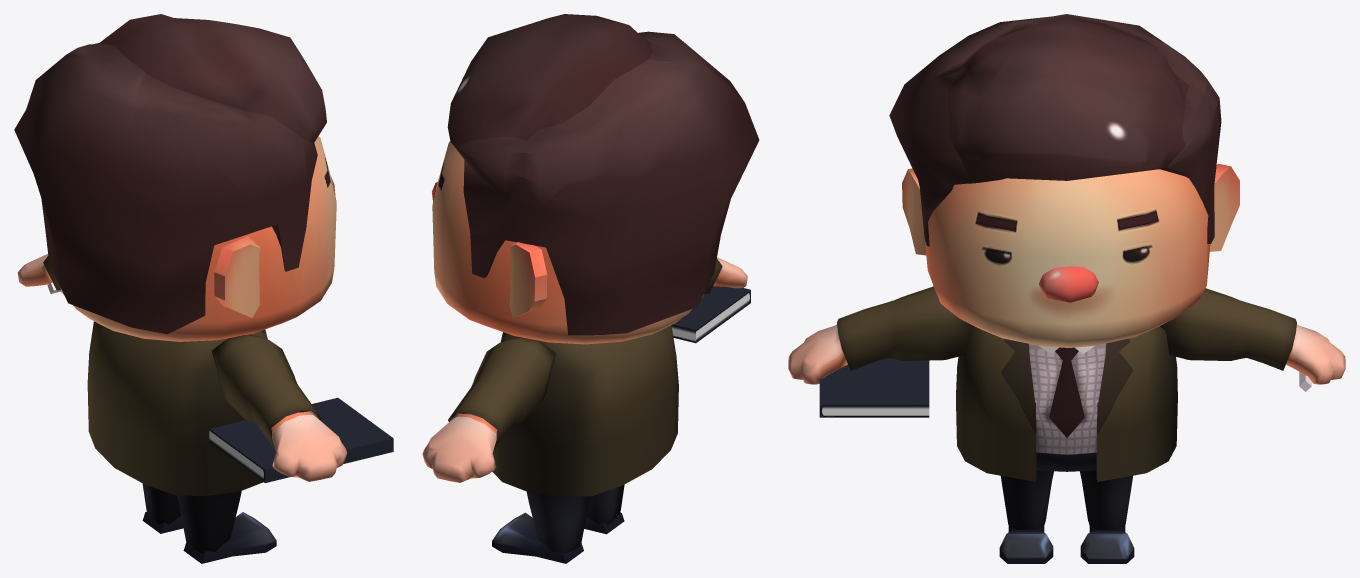
File: Char_Sci_Math_05.fbx
3 renders of one model, left to right at view 1: azimuth 30°, elevation 25°; view 2: azimuth 150°, elevation 25°; view 3: azimuth 270°, elevation 25°, orthographic.
Parts seen in each view (by area): view 1: Hair_MOM, Jacket_MOM, Head_MOM, R_Arm_MOM, Book_MOM, R_Leg_MOM, R_Ear_MOM, L_Leg_MOM, L_Arm_MOM; view 2: Hair_MOM, Jacket_MOM, Head_MOM, L_Arm_MOM, L_Leg_MOM, Book_MOM, L_Ear_MOM, R_Leg_MOM, R_Arm_MOM; view 3: Hair_MOM, Head_MOM, Jacket_MOM, R_Arm_MOM, L_Arm_MOM, Body_MOM, Book_MOM, R_Leg_MOM, L_Leg_MOM, Tie_MOM, L_Ear_MOM, Nose_MOM (+1 smaller).
Boxes of the visible parts, bbox=[...] form: Hair_MOM: bbox=[14, 14, 326, 334]; Jacket_MOM: bbox=[87, 321, 267, 495]; Head_MOM: bbox=[60, 136, 336, 341]; R_Arm_MOM: bbox=[211, 334, 346, 481]; Book_MOM: bbox=[209, 397, 393, 482]; R_Leg_MOM: bbox=[177, 491, 276, 563]; R_Ear_MOM: bbox=[214, 236, 260, 317]; L_Leg_MOM: bbox=[142, 483, 183, 533]; L_Arm_MOM: bbox=[17, 254, 60, 290]; Hair_MOM: bbox=[447, 14, 759, 335]; Jacket_MOM: bbox=[492, 325, 678, 496]; Head_MOM: bbox=[432, 141, 703, 344]; L_Arm_MOM: bbox=[422, 337, 556, 482]; L_Leg_MOM: bbox=[492, 492, 590, 563]; Book_MOM: bbox=[671, 286, 750, 343]; L_Ear_MOM: bbox=[509, 242, 547, 317]; R_Leg_MOM: bbox=[584, 484, 624, 534]; R_Arm_MOM: bbox=[704, 257, 747, 293]; Hair_MOM: bbox=[889, 14, 1221, 246]; Head_MOM: bbox=[925, 169, 1210, 347]; Jacket_MOM: bbox=[956, 326, 1177, 481]; R_Arm_MOM: bbox=[788, 286, 974, 384]; L_Arm_MOM: bbox=[1160, 288, 1345, 384]; Body_MOM: bbox=[1029, 343, 1105, 471]; Book_MOM: bbox=[819, 358, 929, 417]; R_Leg_MOM: bbox=[999, 470, 1053, 563]; L_Leg_MOM: bbox=[1080, 470, 1134, 563]; Tie_MOM: bbox=[1049, 347, 1084, 437]; L_Ear_MOM: bbox=[1209, 163, 1239, 251]; Nose_MOM: bbox=[1039, 266, 1098, 302].
Bounding box in the file's own units: 4.7 × 7.61 × 7.61.
